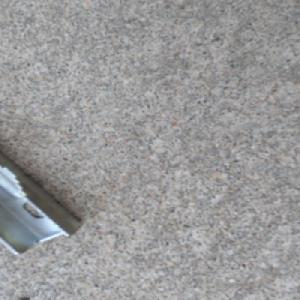ClampPart: (0, 150, 84, 255)
